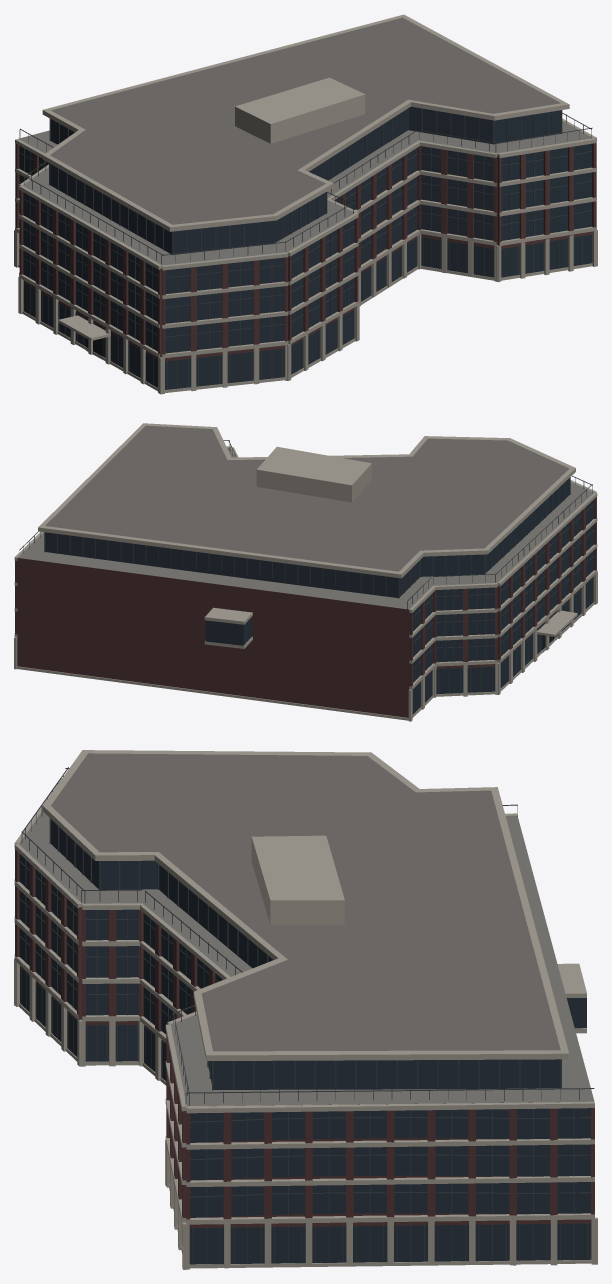
Rendered from rca_frayling_building.glb.
The picture shows the model from 3 angles, top to bottom: view 1: azimuth 30°, elevation 25°; view 2: azimuth 150°, elevation 25°; view 3: azimuth 270°, elevation 25°; orthographic projection. The views are drawn at different scales.
Bounding box in the file's own units: 59.72 × 22.7 × 46.57.
